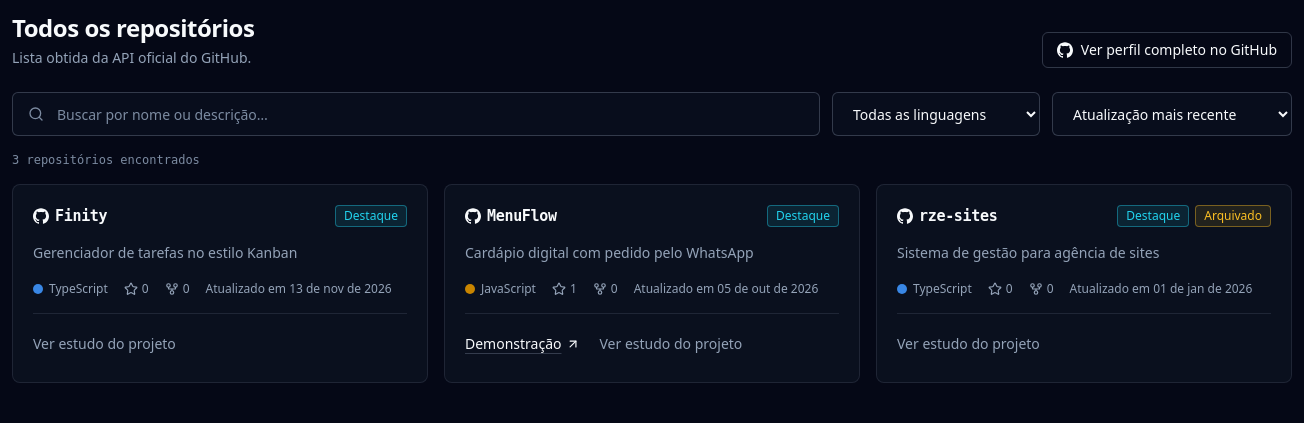
Test: RepoExplorer › mostra estado vazio com ação para limpar filtros
Type "nao-existe" into the search field at (416, 114), box [12,92,820,136]
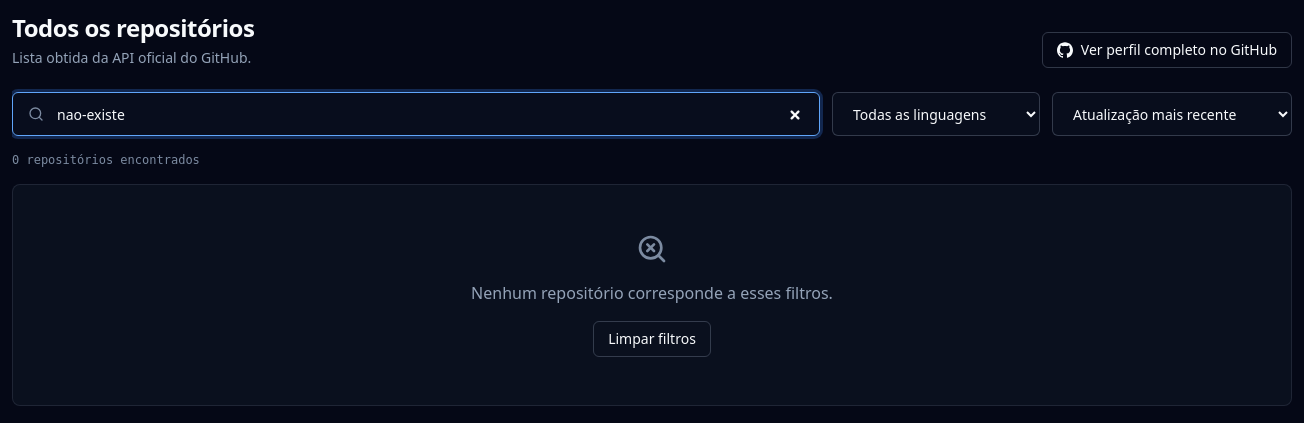
Result: the text "Nenhum repositório corresponde a esses filtros." is shown at [471,281,833,305]
Click the button "Limpar filtros" at (652, 339), box [593,321,711,357]
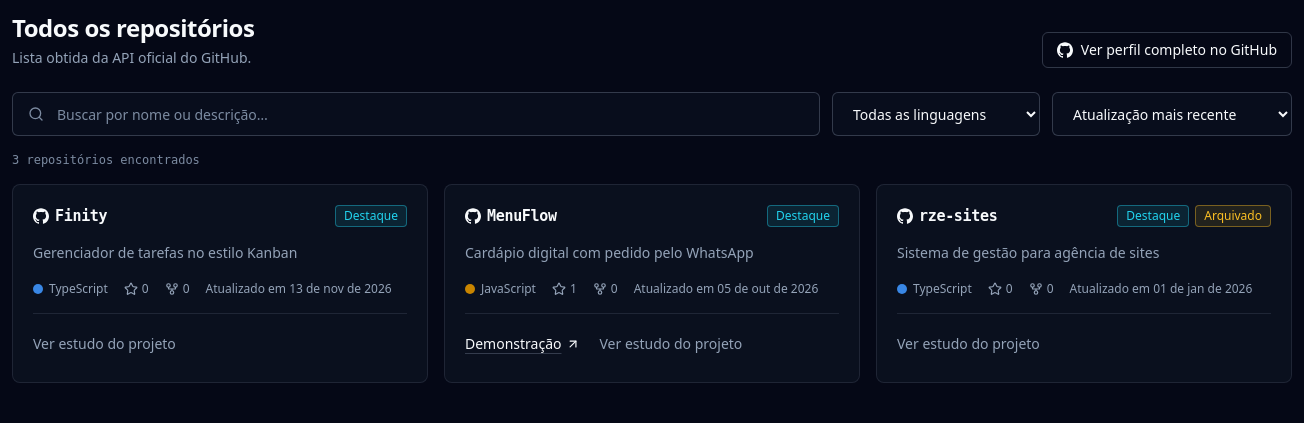
Result: the text "3 repositórios encontrados" is shown at [12,153,200,167]
